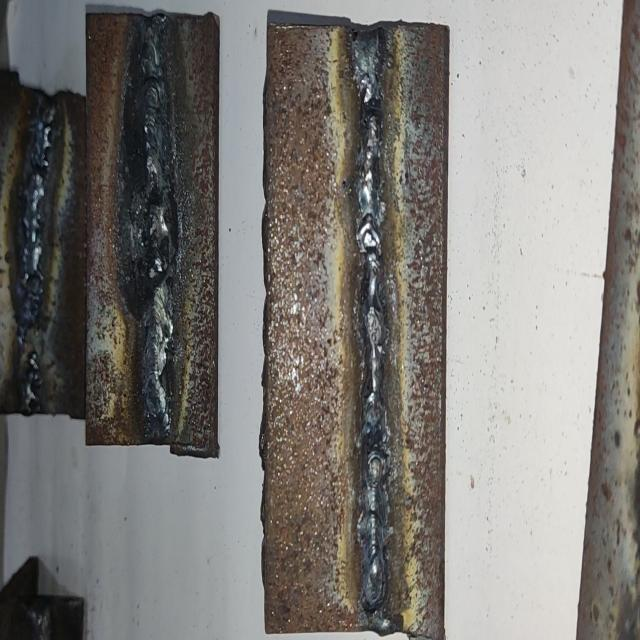Bad Weld: (141, 26, 171, 437), (20, 100, 55, 405)
Defect: (126, 185, 180, 301), (18, 303, 50, 386)
Good Weld: (355, 30, 387, 616)
